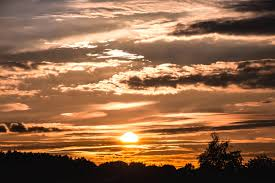forest: (5, 154, 274, 183)
sky: (1, 1, 272, 161)
